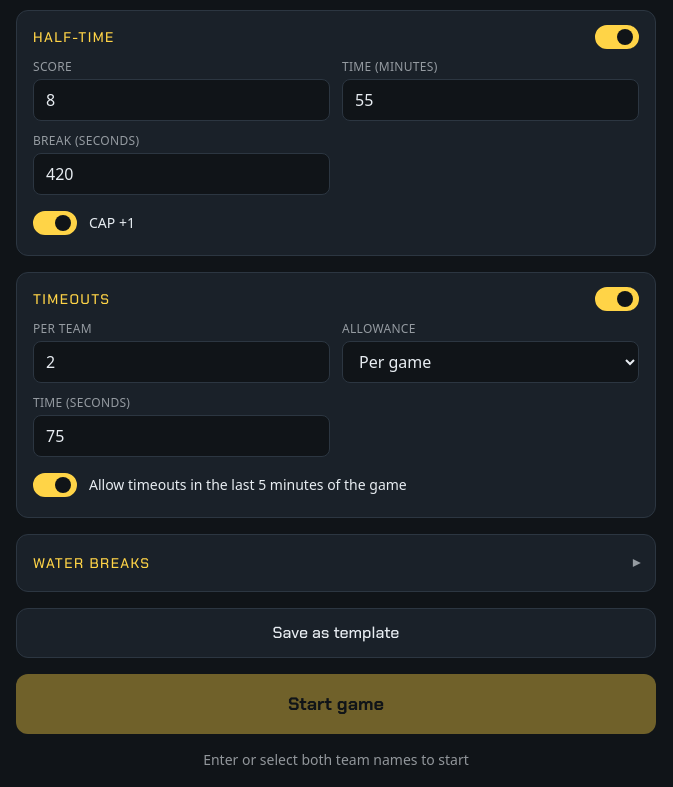
Scenario: config screen water break section › is collapsed by default, and folds back open on toggle
(page scrolled)
Expected: the field labelled "When the first team reaches" is not shown
Click the button with aria-label "Expand Water breaks": click(92, 563) 33,551 -> 639,575
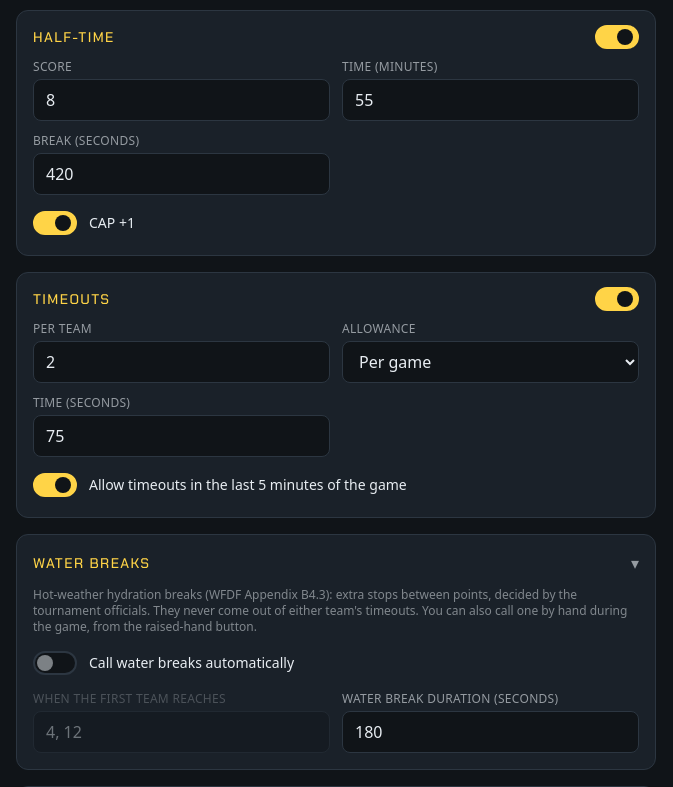
Now the field labelled "When the first team reaches" is shown, box 33,711 -> 330,753
Now the button with aria-label "Collapse Water breaks" is shown, box 33,551 -> 639,575
